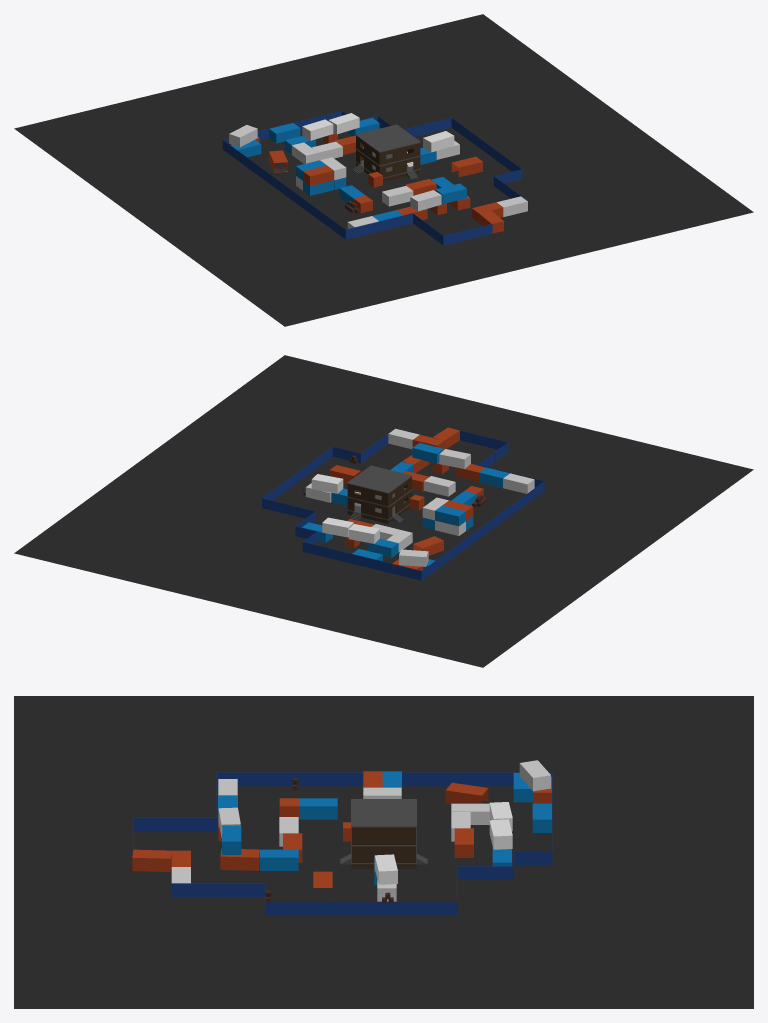
File: myMap-transformed.glb
3 renders of one model, top to bottom at view 1: azimuth 30°, elevation 25°; view 2: azimuth 150°, elevation 25°; view 3: azimuth 270°, elevation 25°, orthographic. The views are drawn at different scales.
Parts seen in each view (by area): view 1: Terrain, MaisonMur, Plane.009, MaisonToit, Plane.008, Plane.011; view 2: Terrain, MaisonMur, Plane.009, Plane.015, MaisonToit, Plane.011; view 3: Terrain, Plane.009, Plane.011, MaisonMur, MaisonToit, Plane.010, Container.025, Container.003, Container.009, Container.028, Plane.014, Container.033 (+8 smaller).
Boxes of the visible parts, x1=… form: Terrain: x1=14, y1=14, x2=753, y2=326; MaisonMur: x1=356, y1=136, x2=420, y2=181; Plane.009: x1=222, y1=140, x2=345, y2=239; MaisonToit: x1=355, y1=124, x2=420, y2=152; Plane.008: x1=346, y1=213, x2=412, y2=239; Plane.011: x1=451, y1=118, x2=521, y2=171; Terrain: x1=14, y1=355, x2=753, y2=667; MaisonMur: x1=347, y1=477, x2=411, y2=523; Plane.009: x1=421, y1=481, x2=544, y2=580; Plane.015: x1=302, y1=542, x2=421, y2=580; MaisonToit: x1=347, y1=465, x2=412, y2=493; Plane.011: x1=262, y1=447, x2=332, y2=507; Terrain: x1=14, y1=696, x2=753, y2=1008; Plane.009: x1=217, y1=772, x2=552, y2=786; Plane.011: x1=265, y1=902, x2=457, y2=915; MaisonMur: x1=351, y1=827, x2=416, y2=868; MaisonToit: x1=351, y1=799, x2=416, y2=827; Plane.010: x1=171, y1=883, x2=265, y2=896; Container.025: x1=132, y1=849, x2=171, y2=871; Container.003: x1=260, y1=849, x2=298, y2=870; Container.009: x1=299, y1=798, x2=337, y2=819; Container.028: x1=445, y1=782, x2=488, y2=804; Plane.014: x1=458, y1=866, x2=513, y2=879; Container.033: x1=519, y1=760, x2=550, y2=791.
Size of the model in its own units: 115 by 7.29 by 115.
